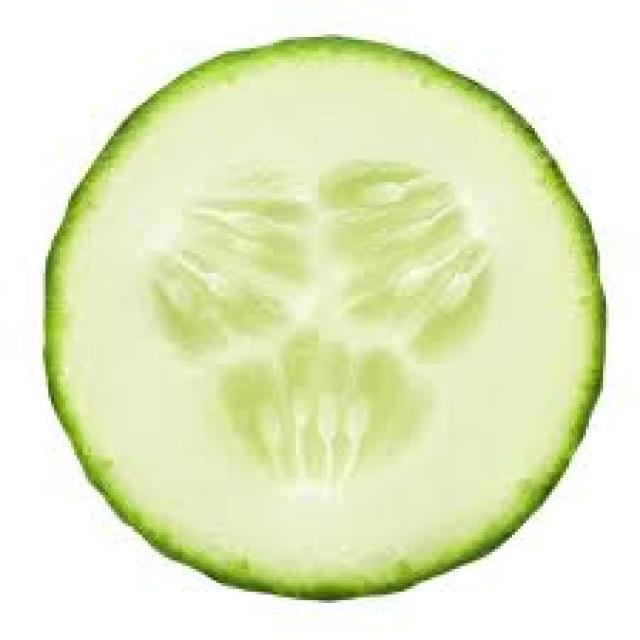Pickle: (46, 38, 604, 597)
